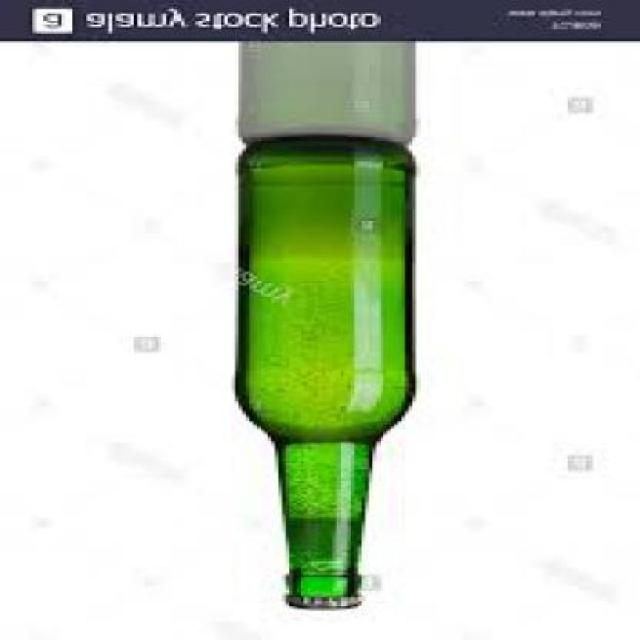GLASS: (232, 138, 408, 599)
METAL: (282, 598, 358, 613)
